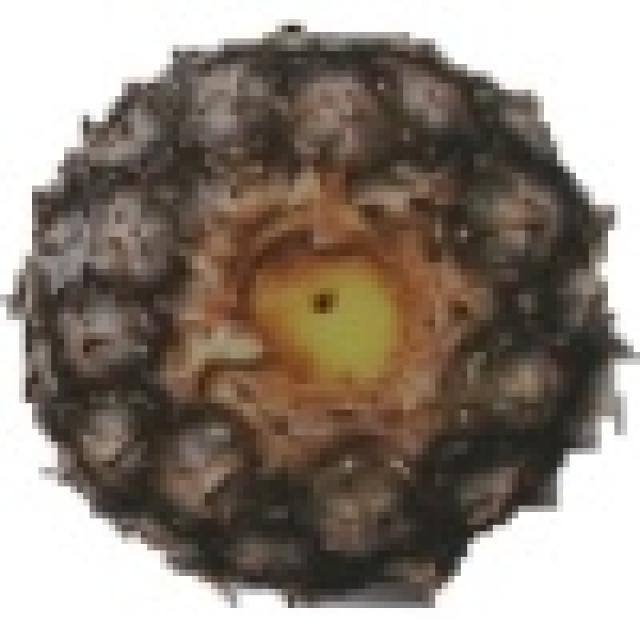pineapple: (6, 19, 608, 595)
